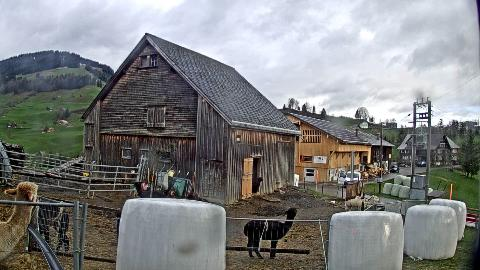car: (338, 170, 362, 190), (388, 164, 400, 174), (417, 160, 427, 168)
sheep: (0, 181, 39, 270), (242, 206, 298, 262), (20, 202, 70, 252), (132, 179, 168, 198), (342, 193, 380, 211), (252, 175, 264, 197)
